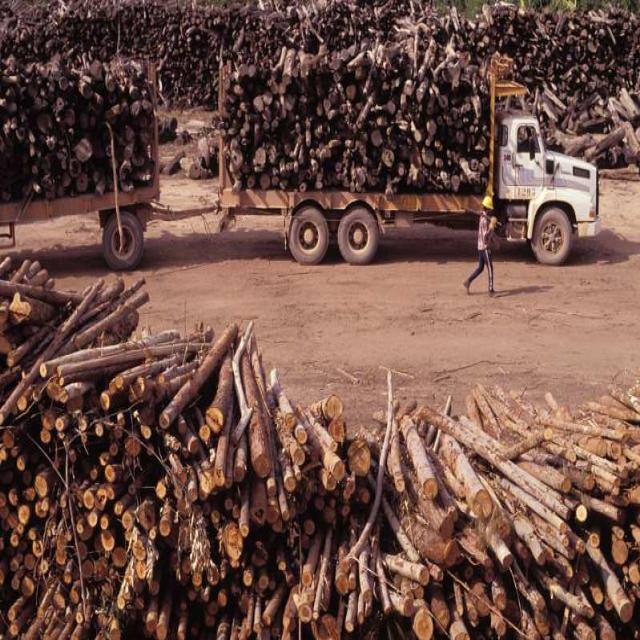Truck: (212, 40, 598, 264)
